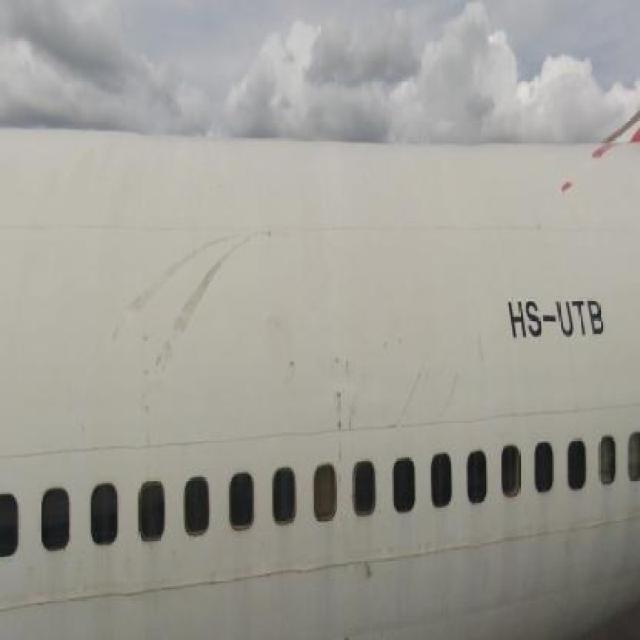Scartch: (321, 355, 357, 457), (357, 545, 380, 601)
